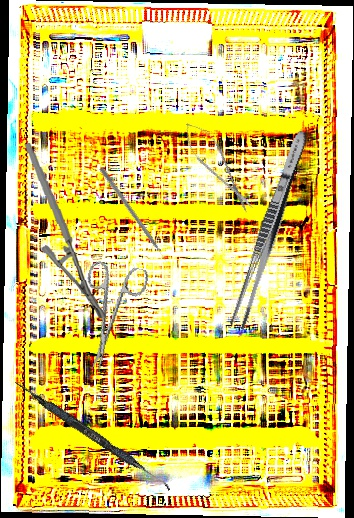Dressing Forceps: (228, 127, 312, 332)
Iris Scissors: (64, 256, 151, 377)
Micro Scissor: (176, 116, 261, 218)
Needle Holder: (23, 138, 108, 323)
Pusher: (98, 166, 170, 266)
Spatula Surgical: (11, 379, 175, 492)
